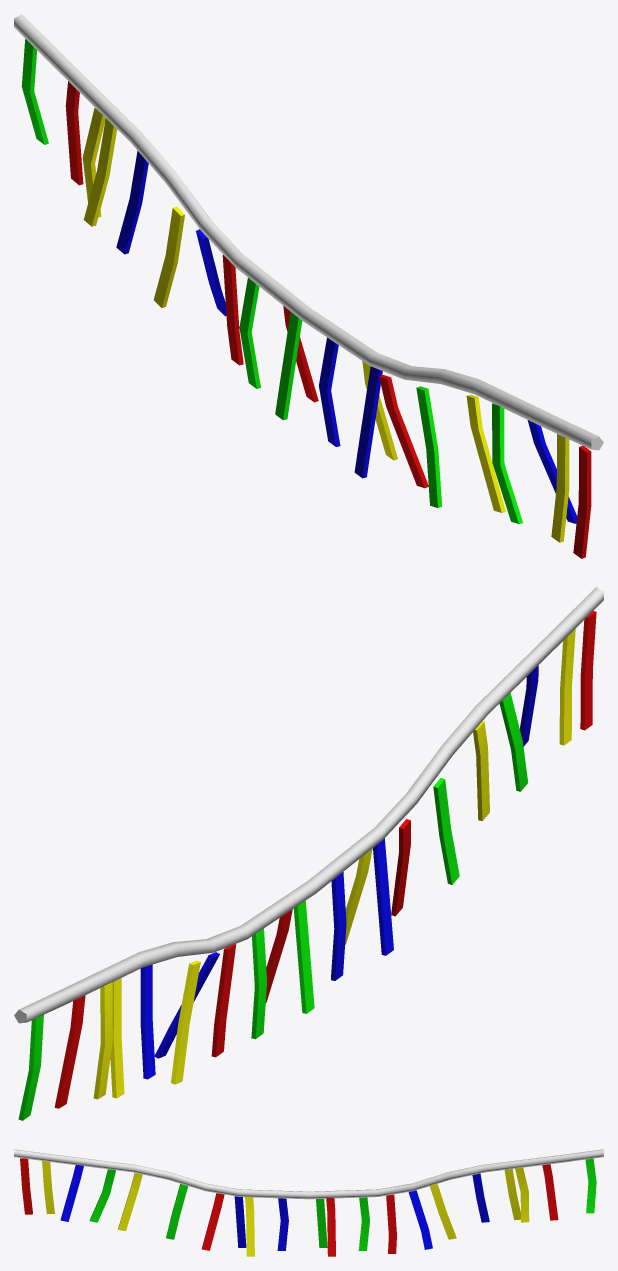
The model's file is SM_Banderolle.fbx.
The picture shows the model from 3 angles, top to bottom: view 1: azimuth 30°, elevation 25°; view 2: azimuth 150°, elevation 25°; view 3: azimuth 270°, elevation 25°; orthographic projection. The views are drawn at different scales.
Visible parts, largest first — view 1: banderole_V2; view 2: banderole_V2; view 3: banderole_V2.
Boxes of the visible parts, x1,y1,x2,y2 form: banderole_V2: (14,14,603,558); banderole_V2: (14,587,603,1120); banderole_V2: (14,1149,603,1256).
Size of the model in its own units: 0.8905 by 3.35 by 17.67.
